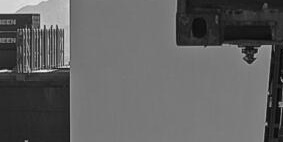twist_lock_2: (235, 42, 264, 68)
